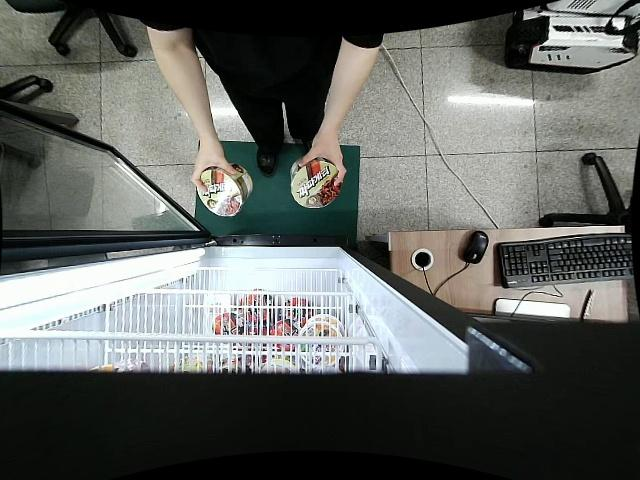00_hand: (297, 131, 347, 190), (191, 143, 237, 195)
03_chapagetti_L: (197, 163, 254, 217), (289, 156, 341, 210)
